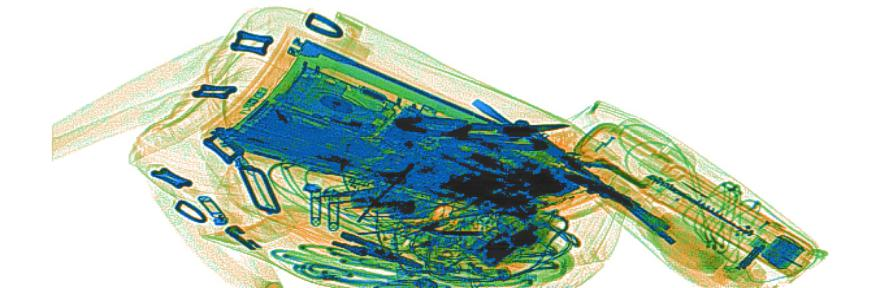battery: (765, 235, 803, 273)
